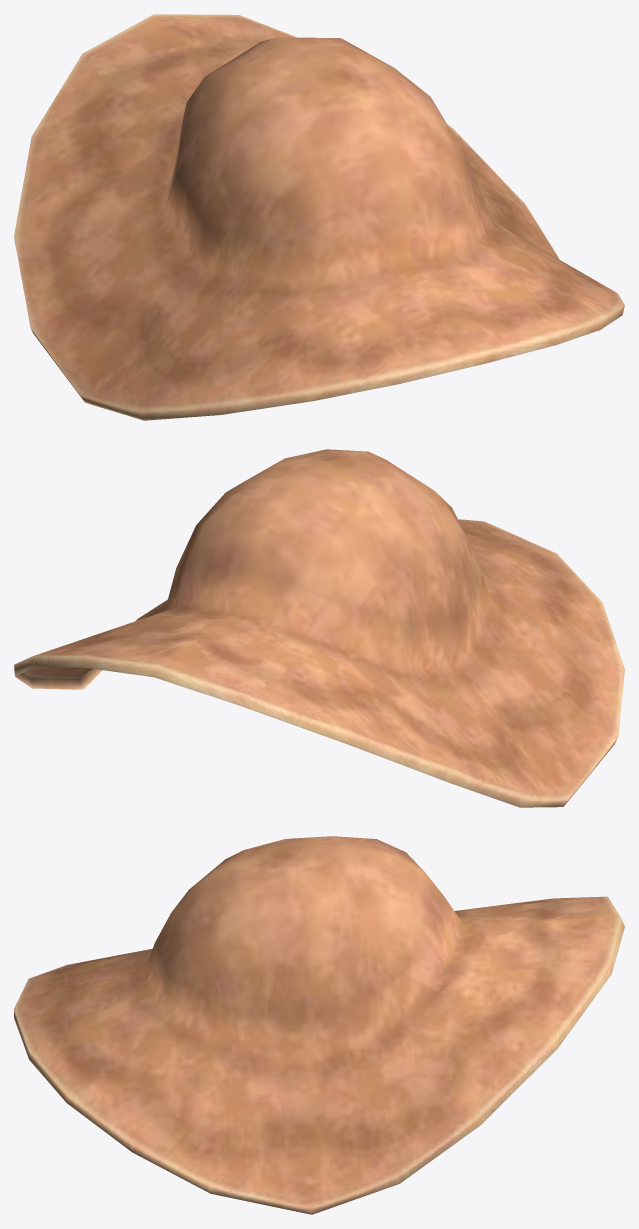
File: rider-helmet-slice-championcavalry.glb
The picture shows the model from 3 angles, top to bottom: view 1: azimuth 30°, elevation 25°; view 2: azimuth 150°, elevation 25°; view 3: azimuth 270°, elevation 25°; orthographic projection. The views are drawn at different scales.
Size of the model in its own units: 0.478 by 0.2622 by 0.5544.
Materials: 1 (1 with a texture image).
